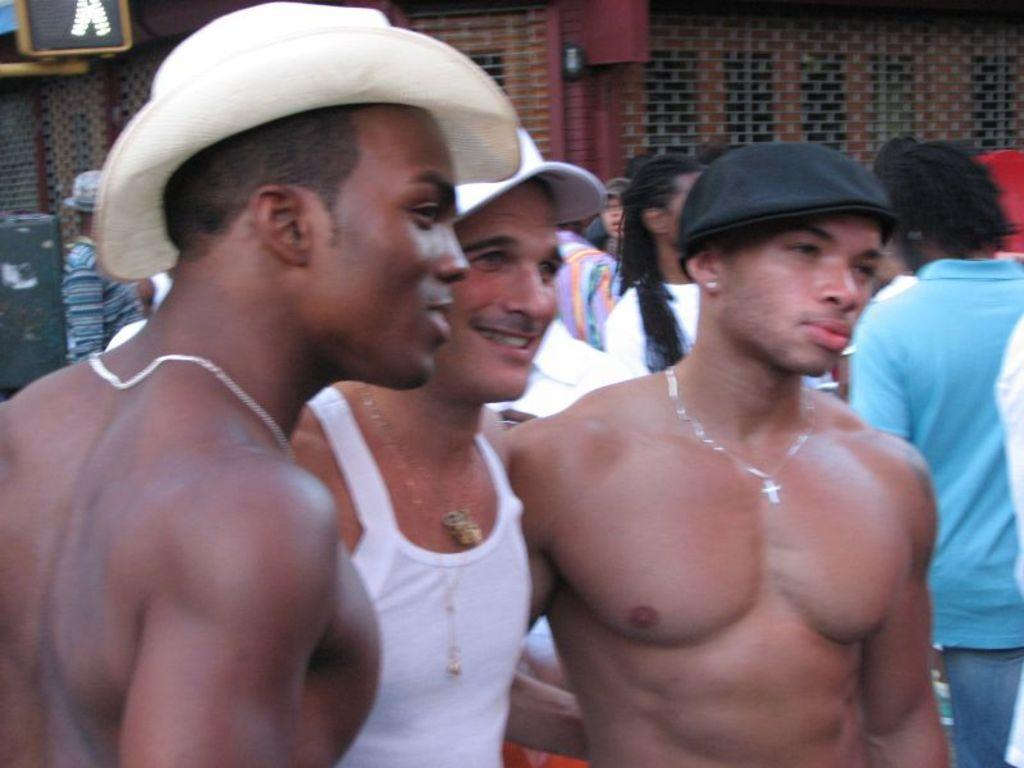Hat: (94, 0, 520, 282), (674, 142, 890, 256), (454, 126, 604, 218), (60, 164, 104, 210)
